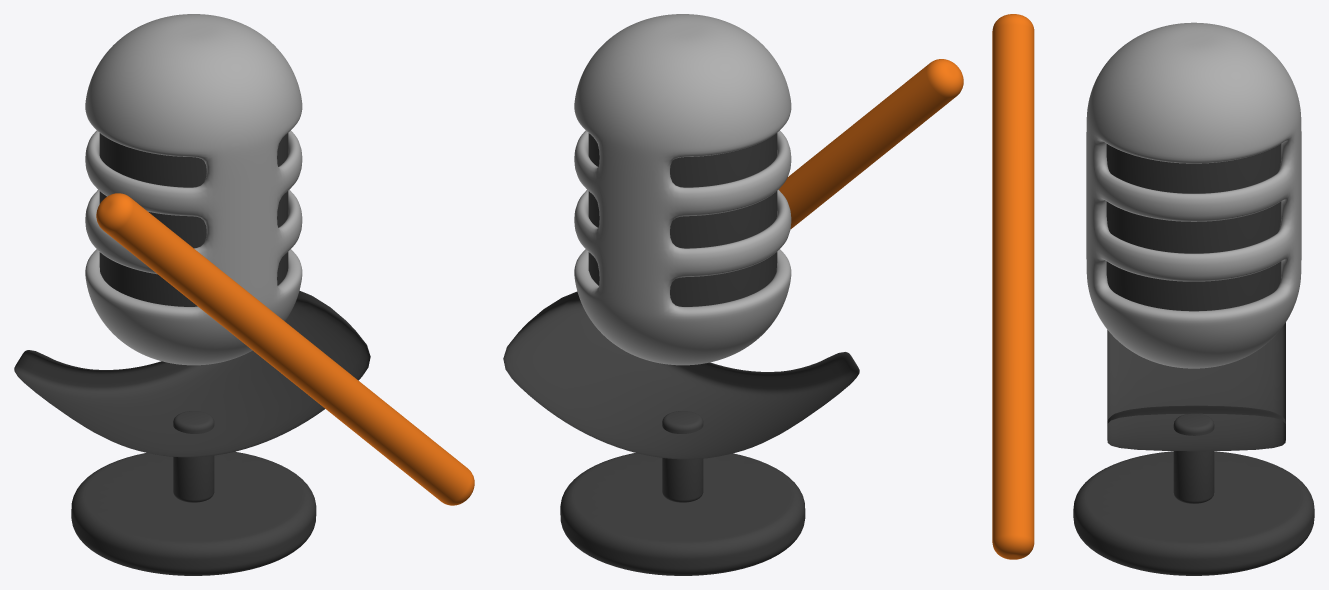
Rendered from mute-animated-3d-icon-241641382087.glb.
3 views of the same model, side by side, from view 1: azimuth 30°, elevation 25°; view 2: azimuth 150°, elevation 25°; view 3: azimuth 270°, elevation 25° (orthographic).
Visible parts, largest first — view 1: Mic Outer, Stand, Mute Line, Mic Inner; view 2: Mic Outer, Stand, Mic Inner, Mute Line; view 3: Mic Outer, Stand, Mute Line, Mic Inner.
Boxes of the visible parts, x1,y1,x2,y2 form: Mic Outer: (85,14,302,365); Stand: (14,290,370,575); Mute Line: (96,193,474,505); Mic Inner: (99,133,288,306); Mic Outer: (574,14,791,365); Stand: (503,291,859,575); Mic Inner: (588,133,777,306); Mute Line: (778,59,963,228); Mic Outer: (1086,22,1301,368); Stand: (1073,322,1314,575); Mute Line: (992,14,1034,559); Mic Inner: (1106,144,1281,311).
Bounding box in the file's own units: 1.74 × 2.23 × 1.32.
